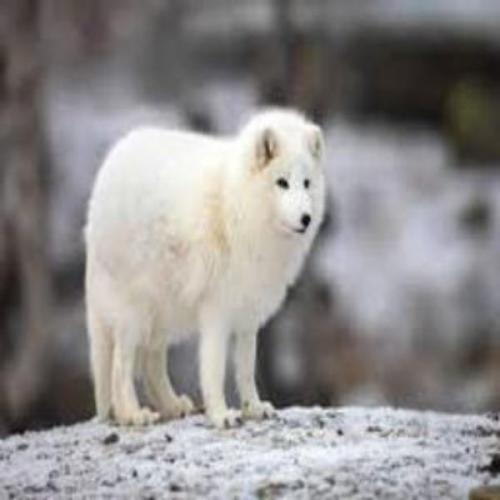arctic_fox-endangered: (80, 107, 328, 429)
